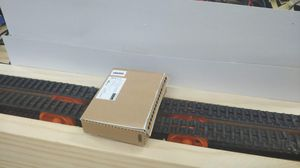box2: (79, 67, 166, 147)
